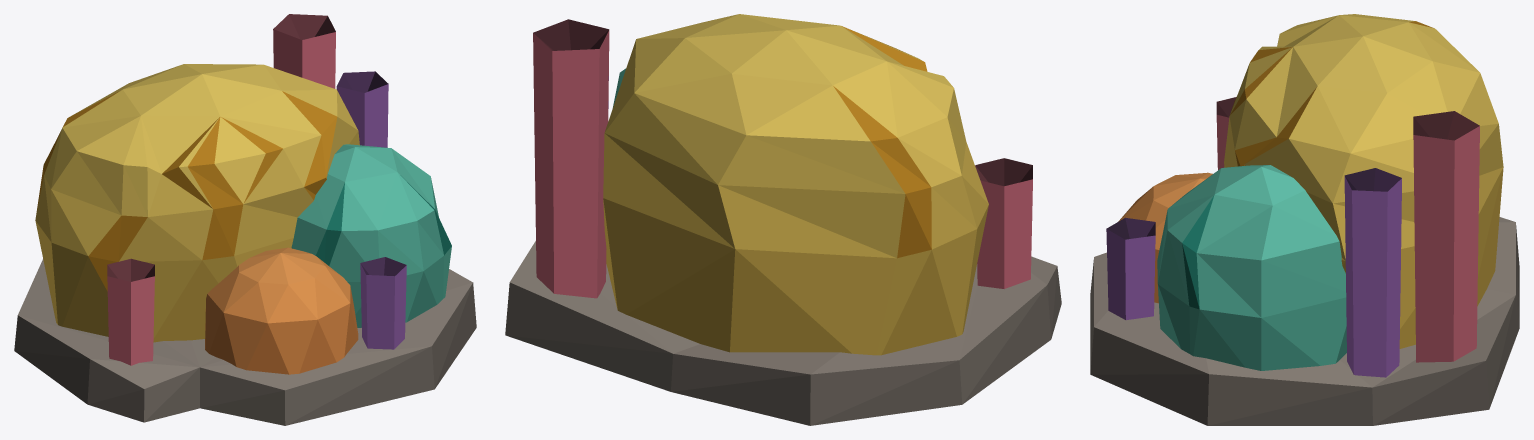
Rendered from coral_brain.glb.
3 renders of one model, left to right at view 1: azimuth 30°, elevation 25°; view 2: azimuth 150°, elevation 25°; view 3: azimuth 270°, elevation 25°, orthographic. The views are drawn at different scales.
Visible parts, largest first — view 1: coral_brain; view 2: coral_brain; view 3: coral_brain.
Part boxes in pixels (<box>): coral_brain: <box>14,14,476,425</box>; coral_brain: <box>505,14,1061,425</box>; coral_brain: <box>1090,14,1519,425</box>.
Bounding box in the file's own units: 1.54 × 1 × 1.39.
